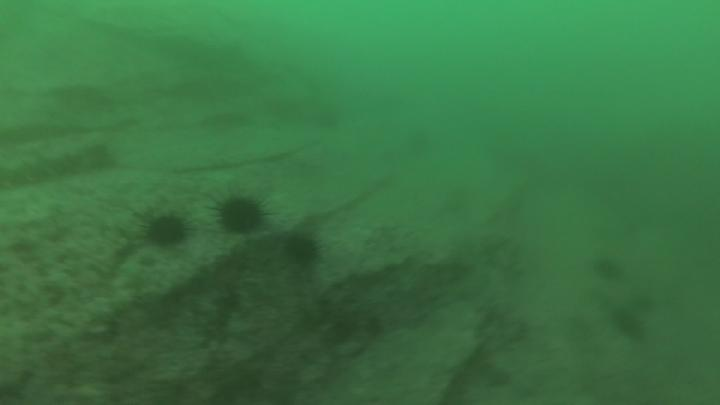echinus: (218, 199, 264, 232), (148, 216, 186, 244), (287, 237, 319, 266)
holothurian: (5, 152, 86, 185)
starfish: (596, 280, 638, 317)
